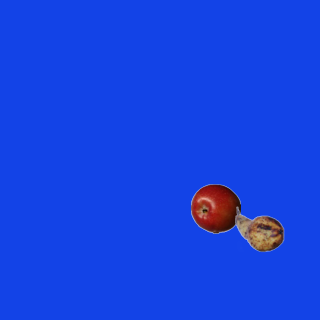Apple Braeburn: (190, 183, 240, 233)
Pear Abate: (234, 204, 284, 254)
